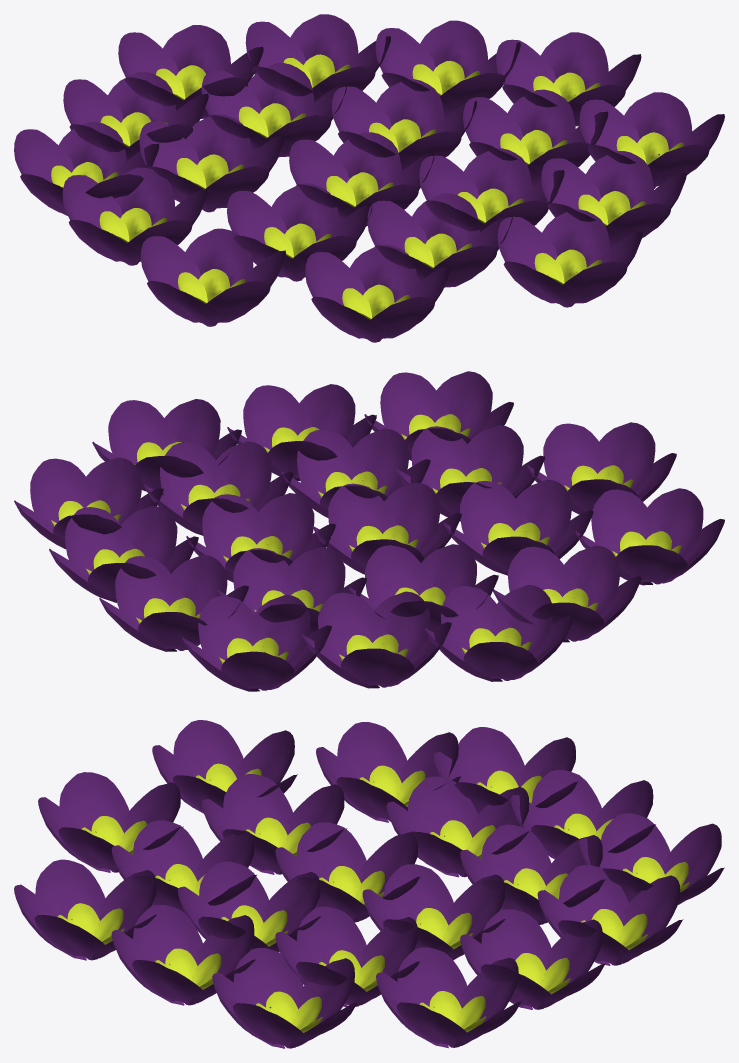
File: florr.fbx
The picture shows the model from 3 angles, top to bottom: view 1: azimuth 30°, elevation 25°; view 2: azimuth 150°, elevation 25°; view 3: azimuth 270°, elevation 25°; orthographic projection. The views are drawn at different scales.
Visible parts, largest first — view 1: FLORPENSAMIENTO.167; view 2: FLORPENSAMIENTO.167; view 3: FLORPENSAMIENTO.167.
Boxes of the visible parts, <box> form: FLORPENSAMIENTO.167: <box>14,14,724,342</box>; FLORPENSAMIENTO.167: <box>14,371,724,691</box>; FLORPENSAMIENTO.167: <box>14,720,724,1048</box>.
Bounding box in the file's own units: 68.96 × 7.73 × 71.44.
